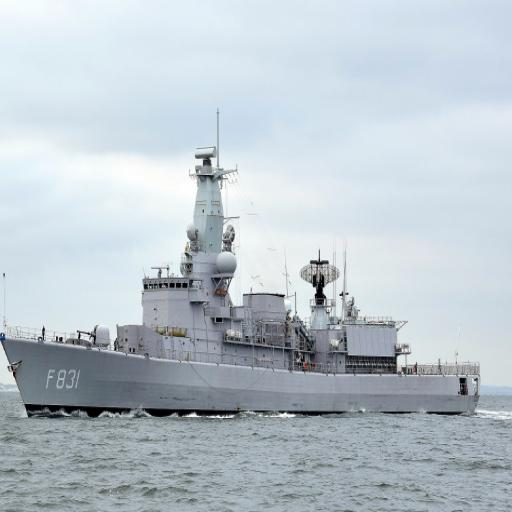Fragata: (1, 122, 485, 423)
